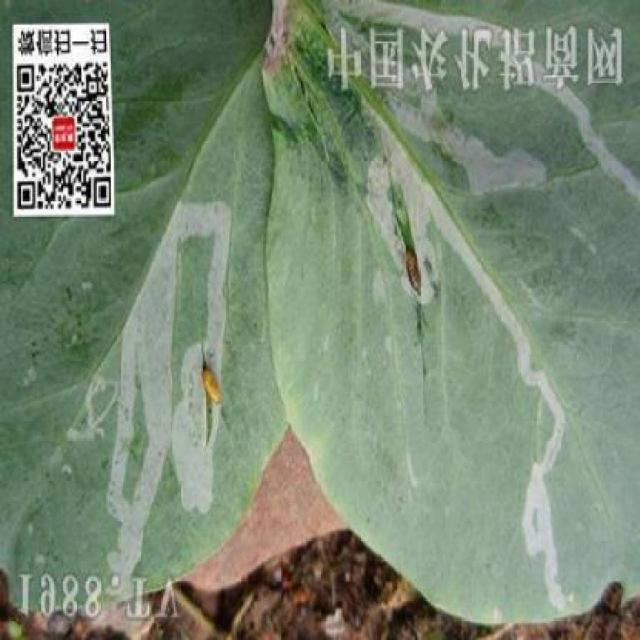whorl-maggot: (400, 234, 431, 301), (197, 357, 226, 414)
